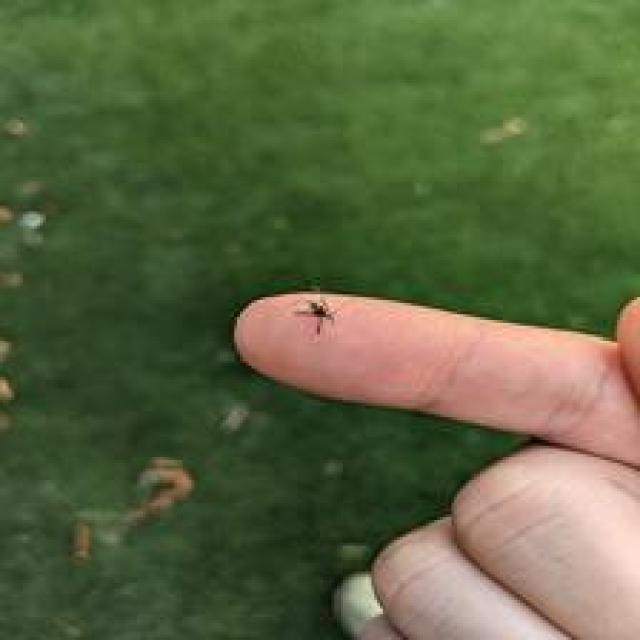Aedes albopictus: (294, 296, 337, 336)
